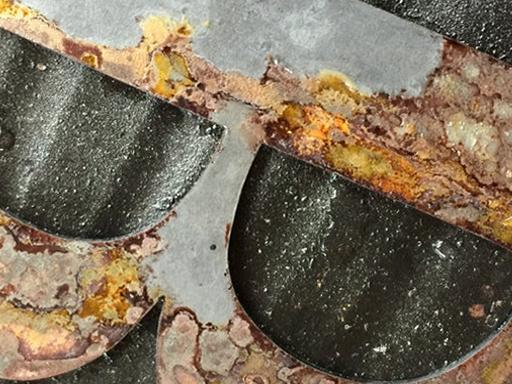rust: (11, 230, 139, 367), (443, 41, 512, 231), (285, 110, 416, 200), (136, 28, 204, 99)
